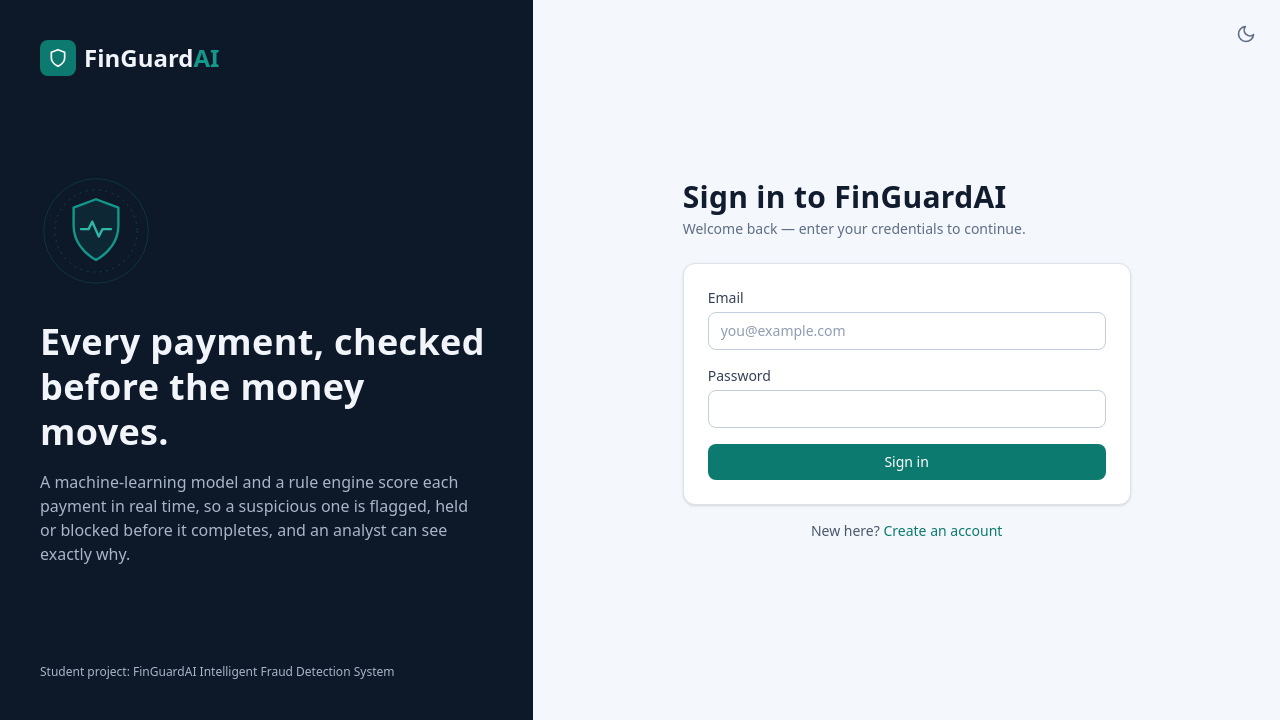
Test: N-17: return to the page the visitor wanted after signing in › falls back to the role home when the remembered page belongs to another role
The image size is (1280, 720).
Type "asha@example.com" into the field labelled "Email" at (907, 331), box left=708, top=312, right=1106, bottom=350
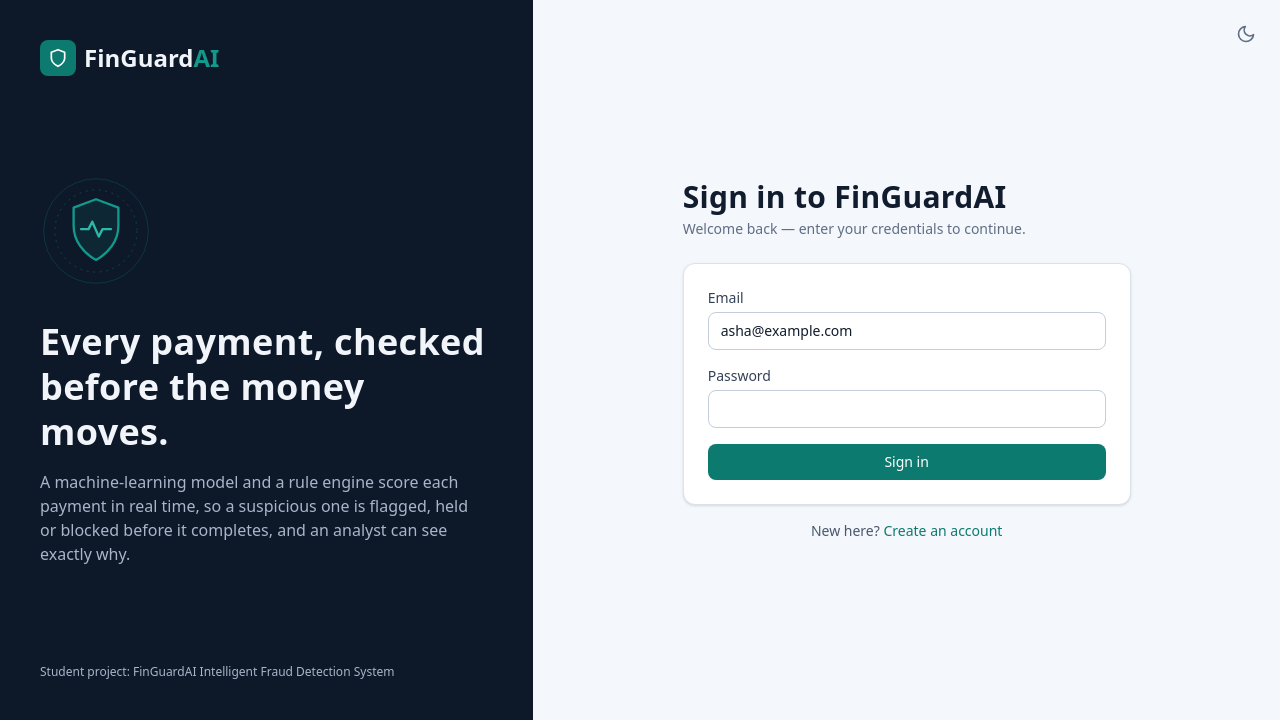
Type "Password@123" into the password field labelled "Password" at (907, 409), box left=708, top=390, right=1106, bottom=428
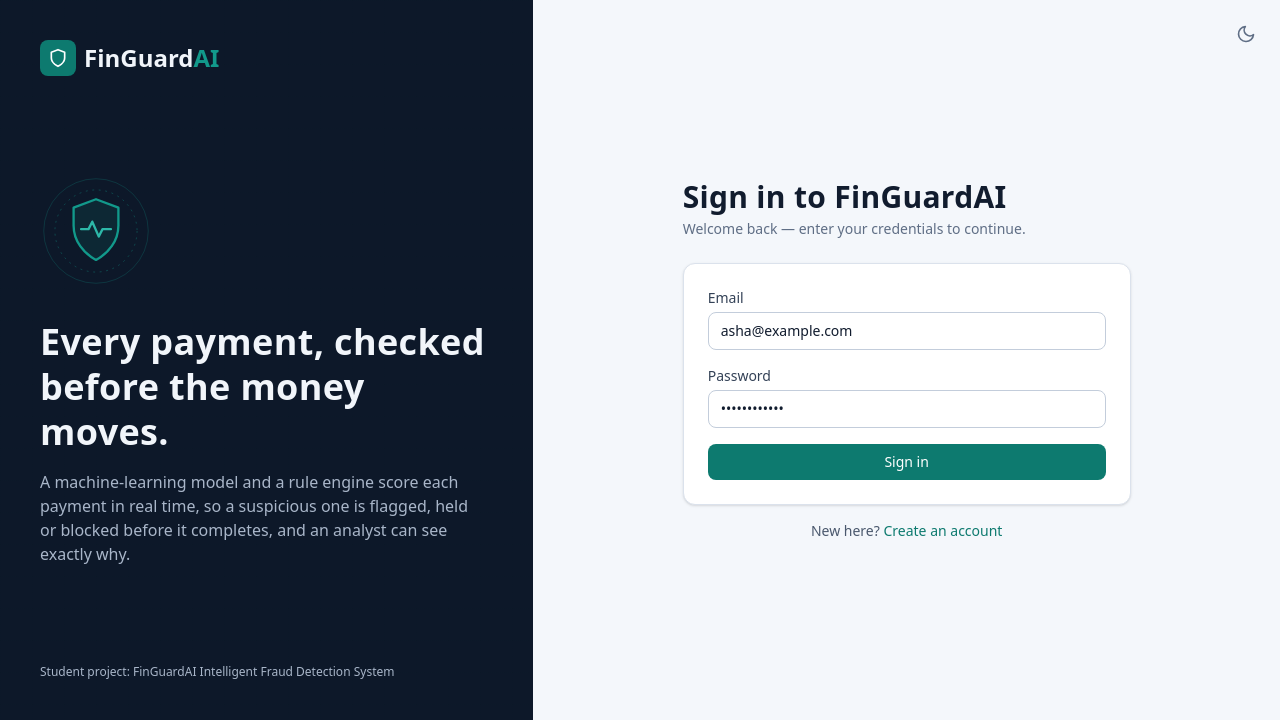
Click the button "Sign in" at (907, 462), box left=708, top=444, right=1106, bottom=480
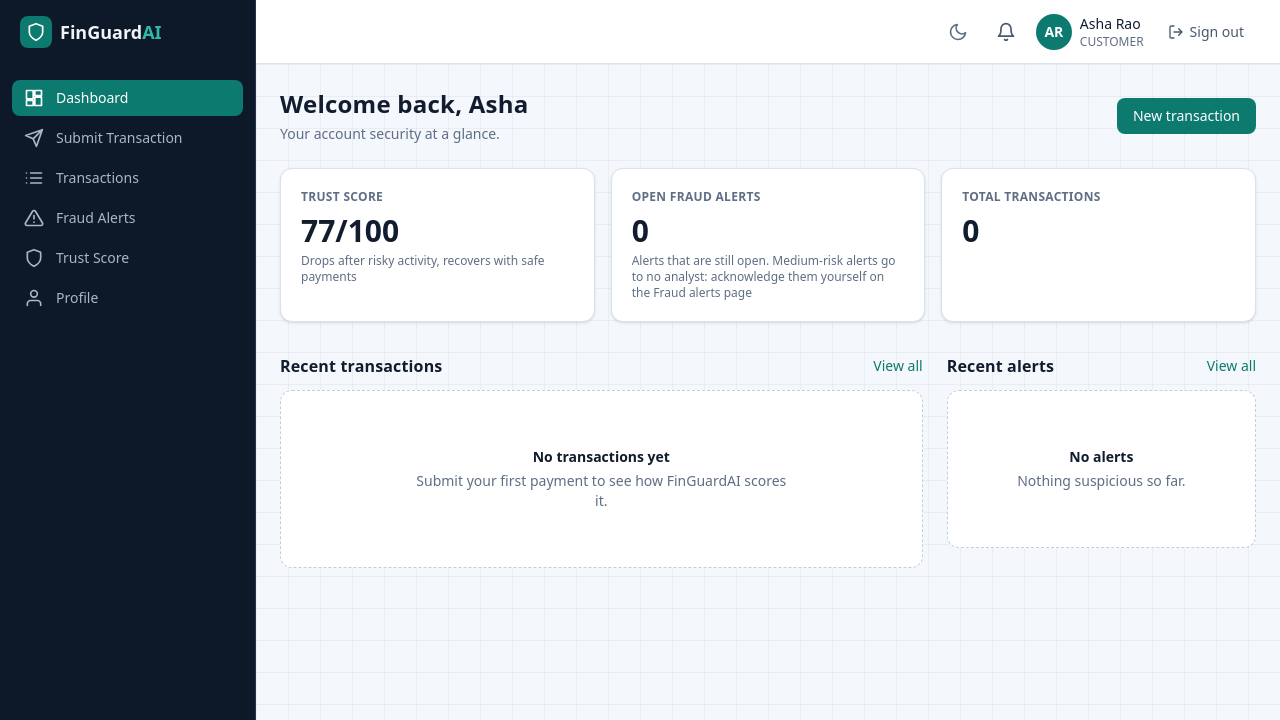
Result: the heading "Welcome back, Asha" is shown at left=280, top=88, right=528, bottom=120
